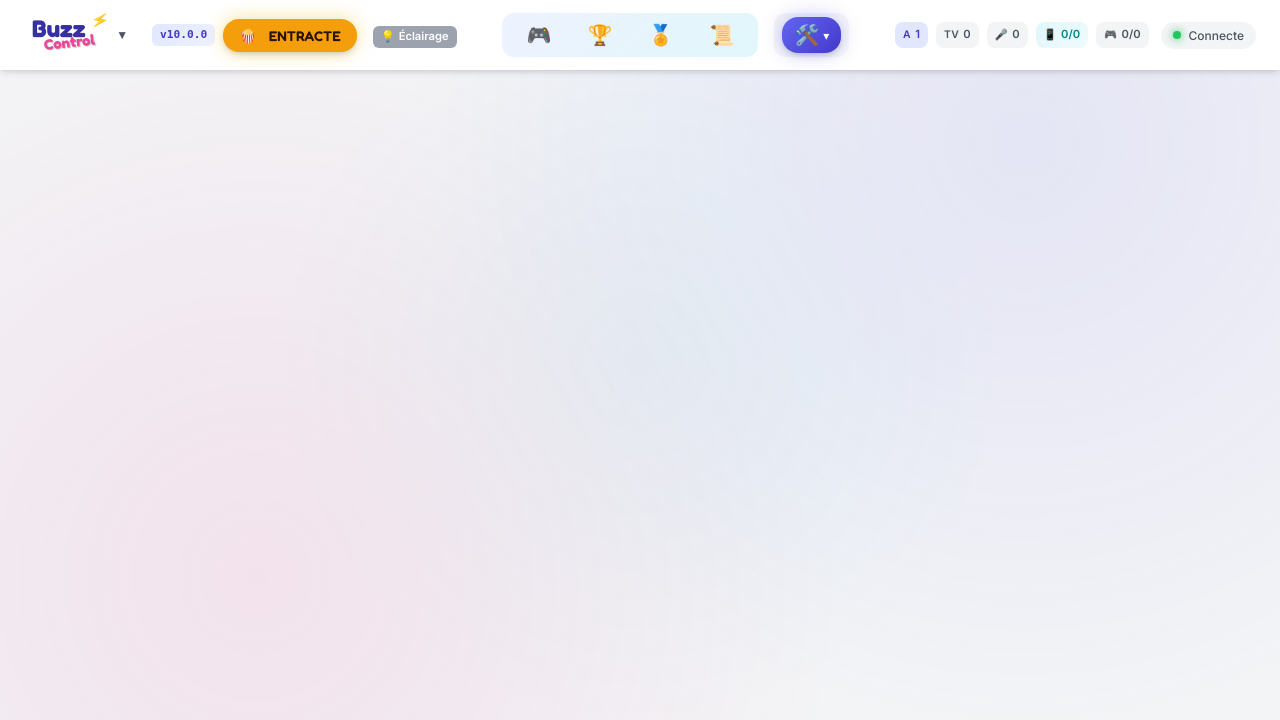
Scenario: Navbar — bouton d'accès aux commandes d'éclairage (#208) › cliquer le bouton ouvre un popover contenant LightingModePanel (sélecteur ON/AUTO/OFF réel, pas mocké)
Click the button with class "lighting-mode-nav-badge" at {"x": 415, "y": 37}, box [373,26,457,48]
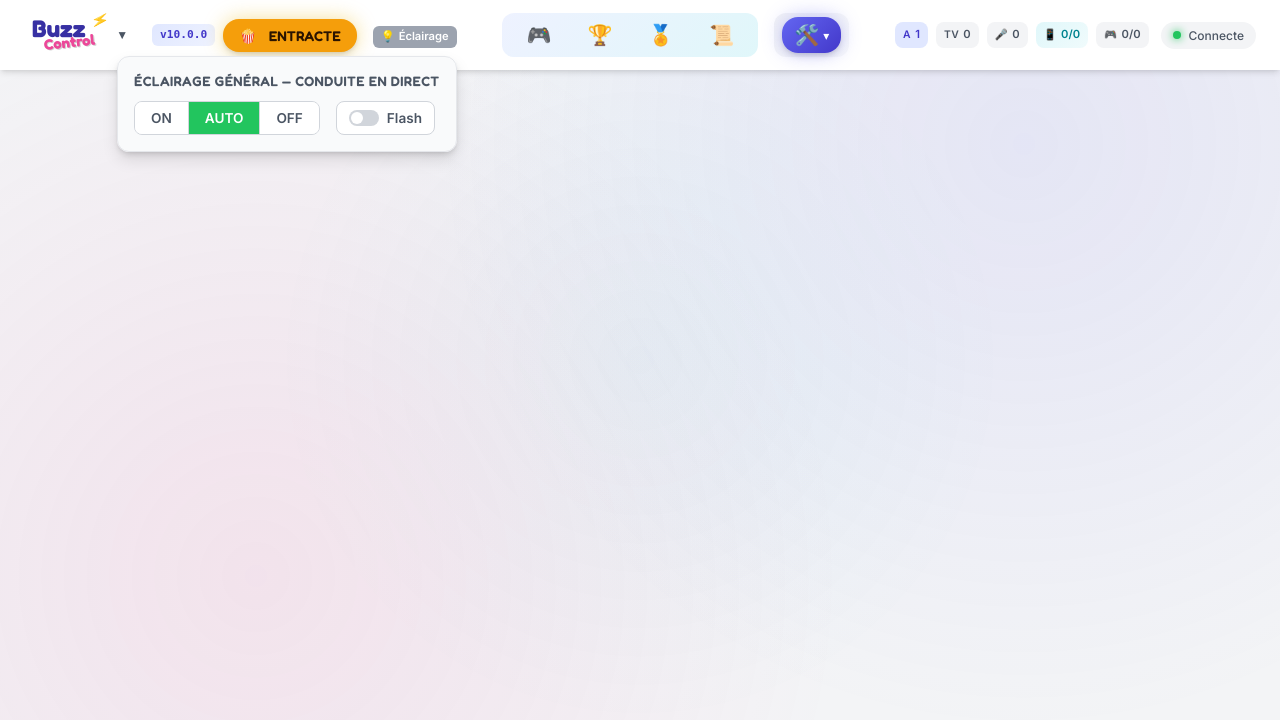
Now the element with class "lighting-mode-popover" is shown, box [117,56,457,152]
Now the radio button labelled "AUTO" is shown, box [189,102,260,134]
Now the radio button labelled "ON" is shown, box [135,102,189,134]
